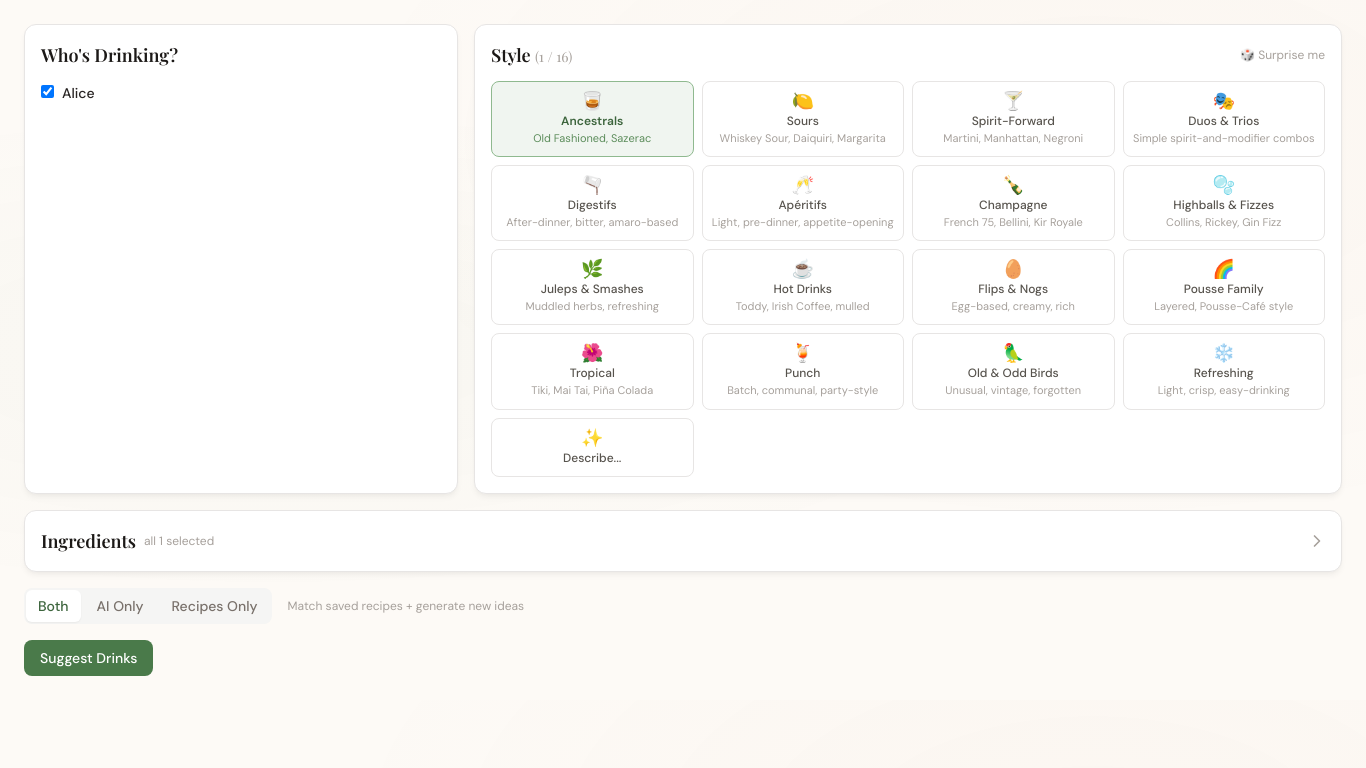
it: CocktailSuggester › streaming error surfaces in the results phase and leaves Generate usable
Click the button "Suggest Drinks": click(89, 658) [24,640,153,676]
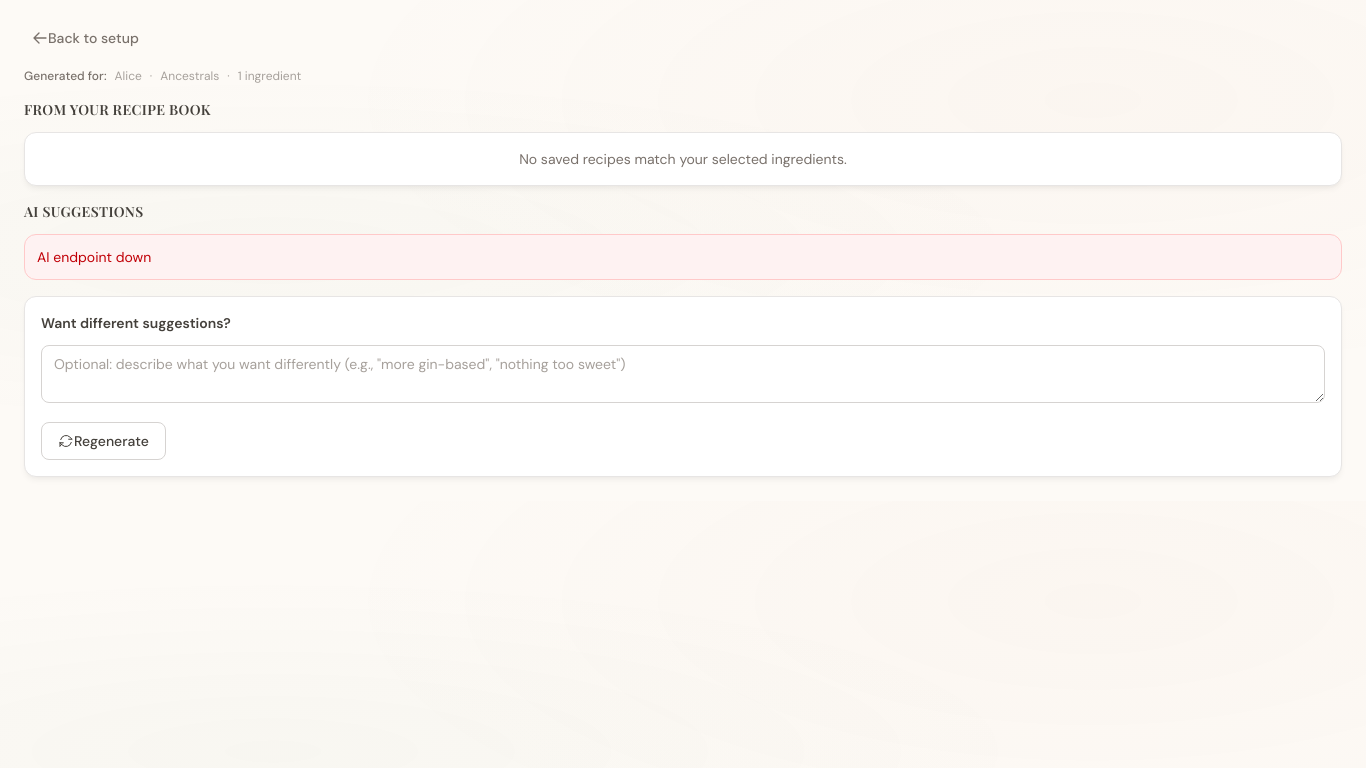
Expected: the button "Regenerate" is enabled, [41,422,166,460]
Expected: the text "AI endpoint down" is shown, [24,234,1342,280]
